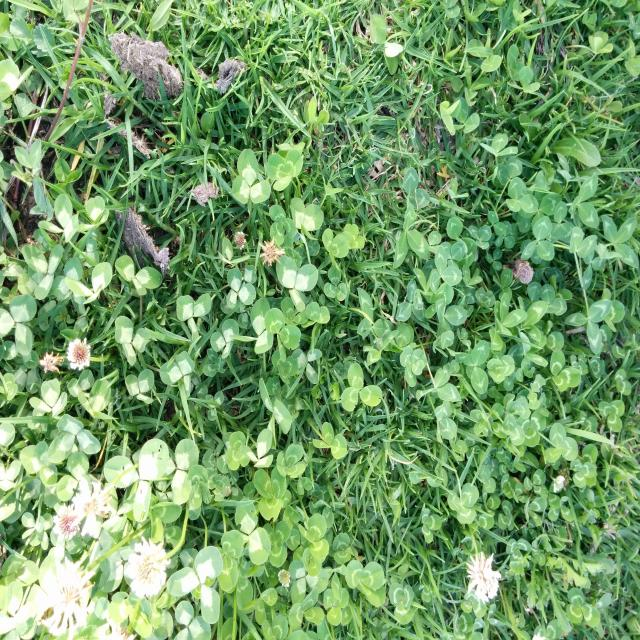Four Leaf Clover: (399, 347, 427, 387)
